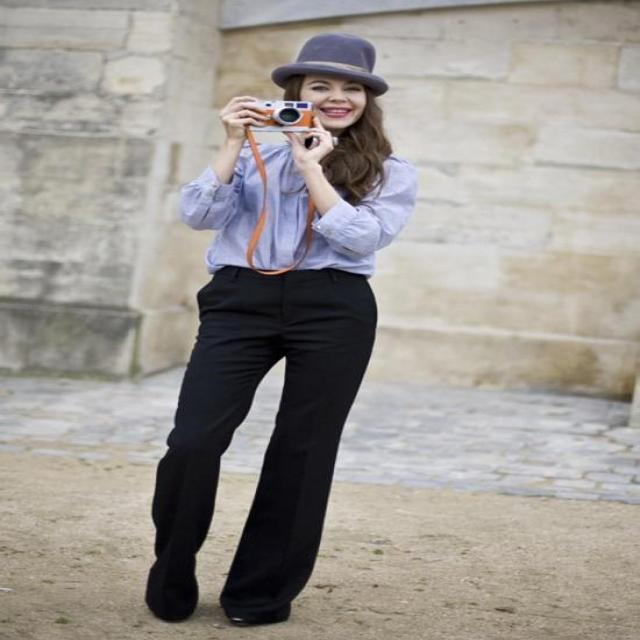pants: (178, 144, 418, 274)
shirt: (144, 267, 378, 624)
